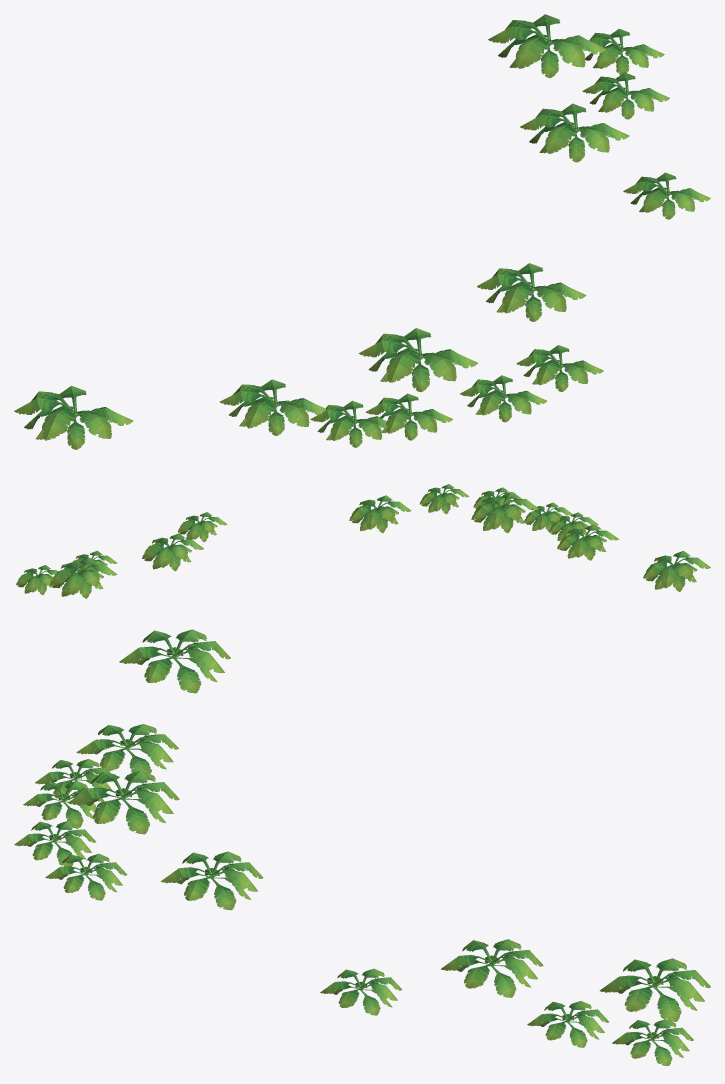
The model's file is bajiaoshu02.fbx.
The picture shows the model from 3 angles, top to bottom: view 1: azimuth 30°, elevation 25°; view 2: azimuth 150°, elevation 25°; view 3: azimuth 270°, elevation 25°; orthographic projection. The views are drawn at different scales.
Visible parts, largest first — view 1: bajiaoshu02; view 2: bajiaoshu02; view 3: bajiaoshu02.
Part boxes in pixels (box(x1,y1,x2,y2)): bajiaoshu02: box(14, 14, 710, 449); bajiaoshu02: box(16, 484, 710, 598); bajiaoshu02: box(14, 629, 710, 1065).
Bounding box in the file's own units: 6207 × 408 × 4580.
1 material, 1 textured.
